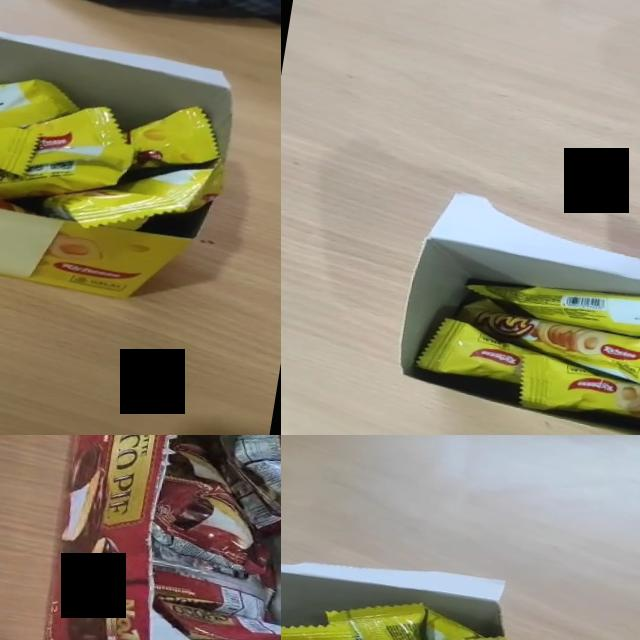Ahh: (39, 132, 228, 249), (447, 292, 640, 399), (462, 266, 640, 354), (0, 42, 84, 174), (19, 95, 142, 182), (515, 352, 640, 435), (414, 314, 548, 390), (115, 94, 227, 182), (0, 140, 126, 218), (318, 587, 431, 640), (281, 606, 363, 640), (0, 149, 39, 215), (420, 607, 489, 640), (402, 622, 510, 640)
Chocopie: (145, 443, 281, 584), (146, 554, 277, 623), (206, 435, 281, 549), (147, 596, 281, 640)
